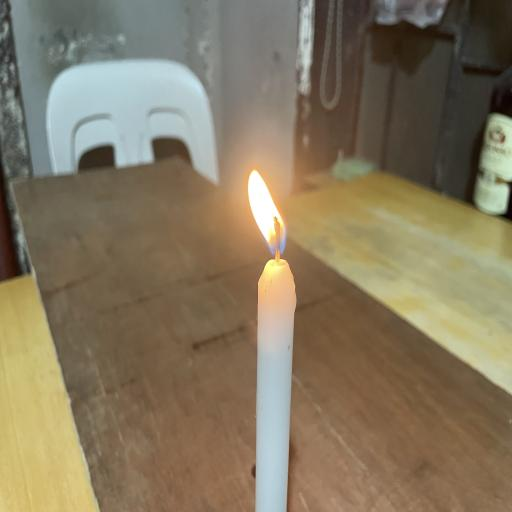fire: (231, 168, 294, 267)
